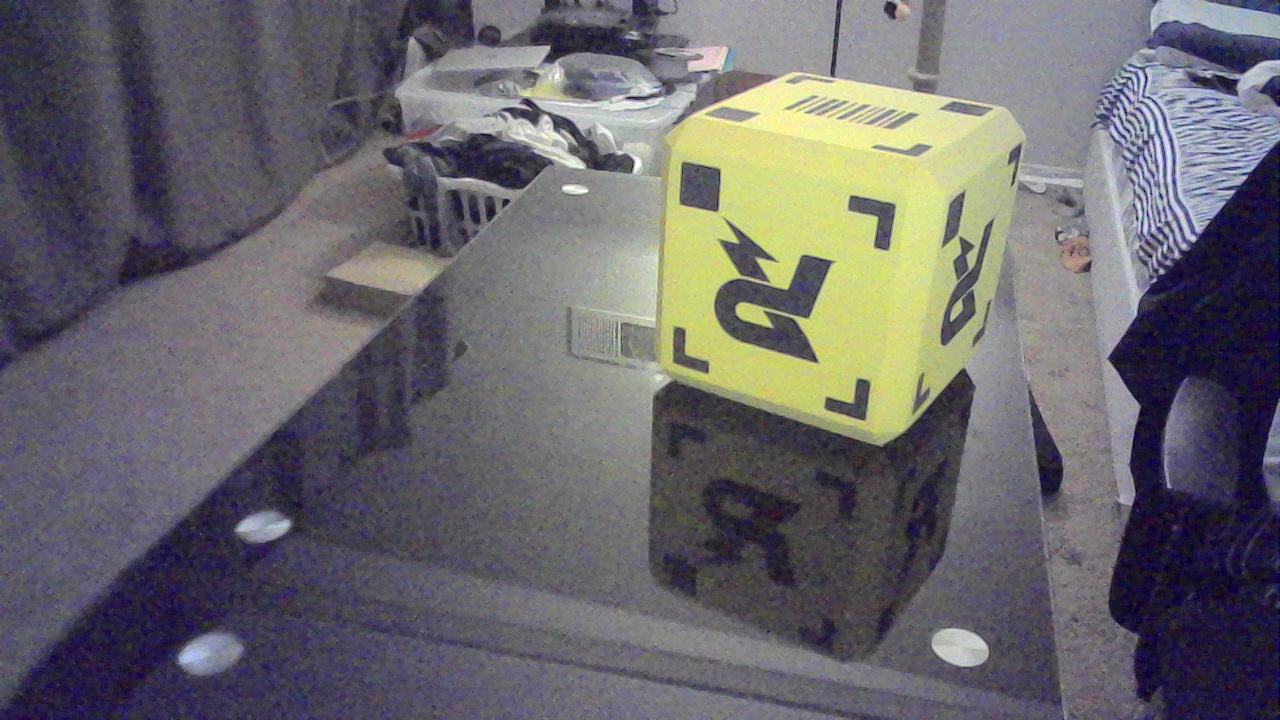Barcode: (797, 99, 910, 137)
R: (714, 235, 827, 356), (941, 226, 997, 354)
